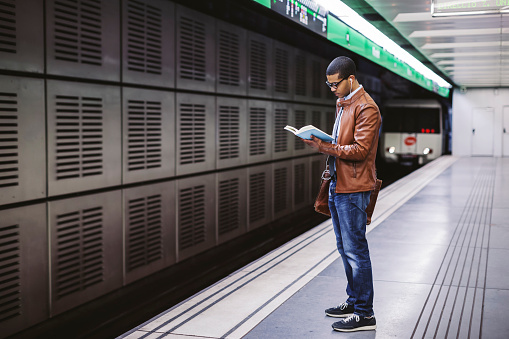em pe: (286, 51, 396, 324)
